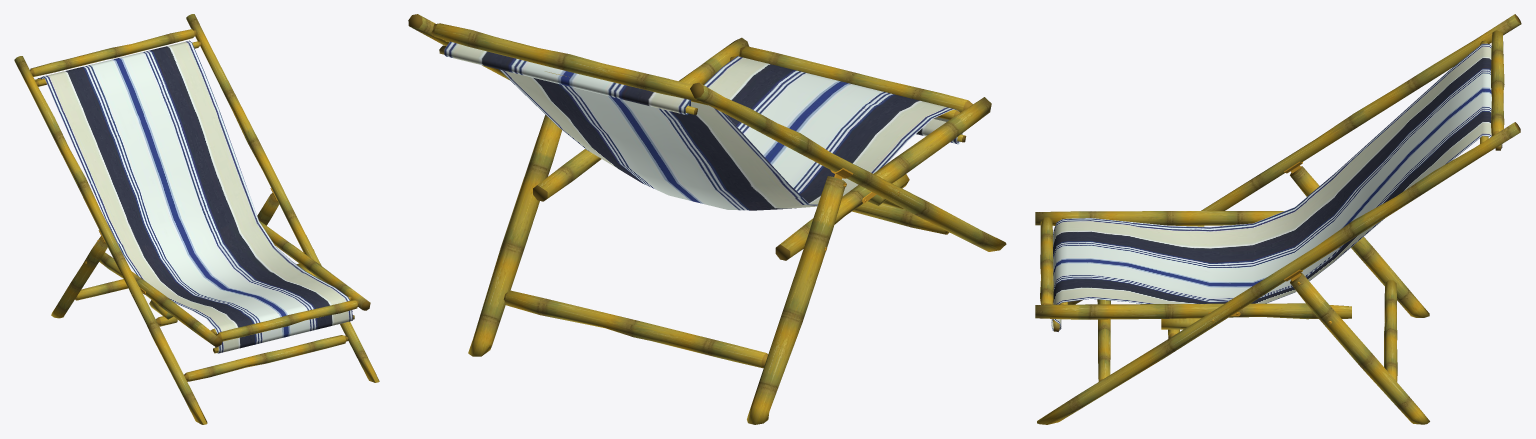
Rendered from ghe-bien.glb.
3 views of the same model, side by side, from view 1: azimuth 30°, elevation 25°; view 2: azimuth 150°, elevation 25°; view 3: azimuth 270°, elevation 25° (orthographic). The views are drawn at different scales.
Visible parts, largest first — view 1: Cylinder.010; view 2: Cylinder.010; view 3: Cylinder.010.
Part boxes in pixels (<box>): Cylinder.010: <box>14,14,379,424</box>; Cylinder.010: <box>408,14,1006,424</box>; Cylinder.010: <box>1035,14,1521,424</box>.
Bounding box in the file's own units: 0.5603 × 0.6802 × 1.
Materials: 6 (5 with a texture image).
